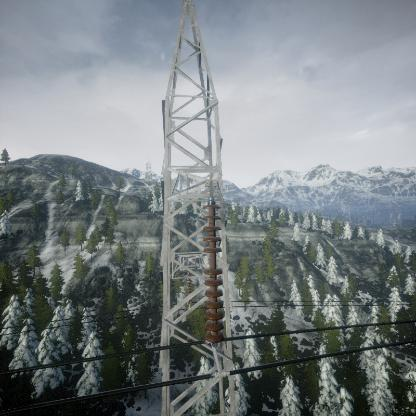insulator: (201, 198, 227, 345)
